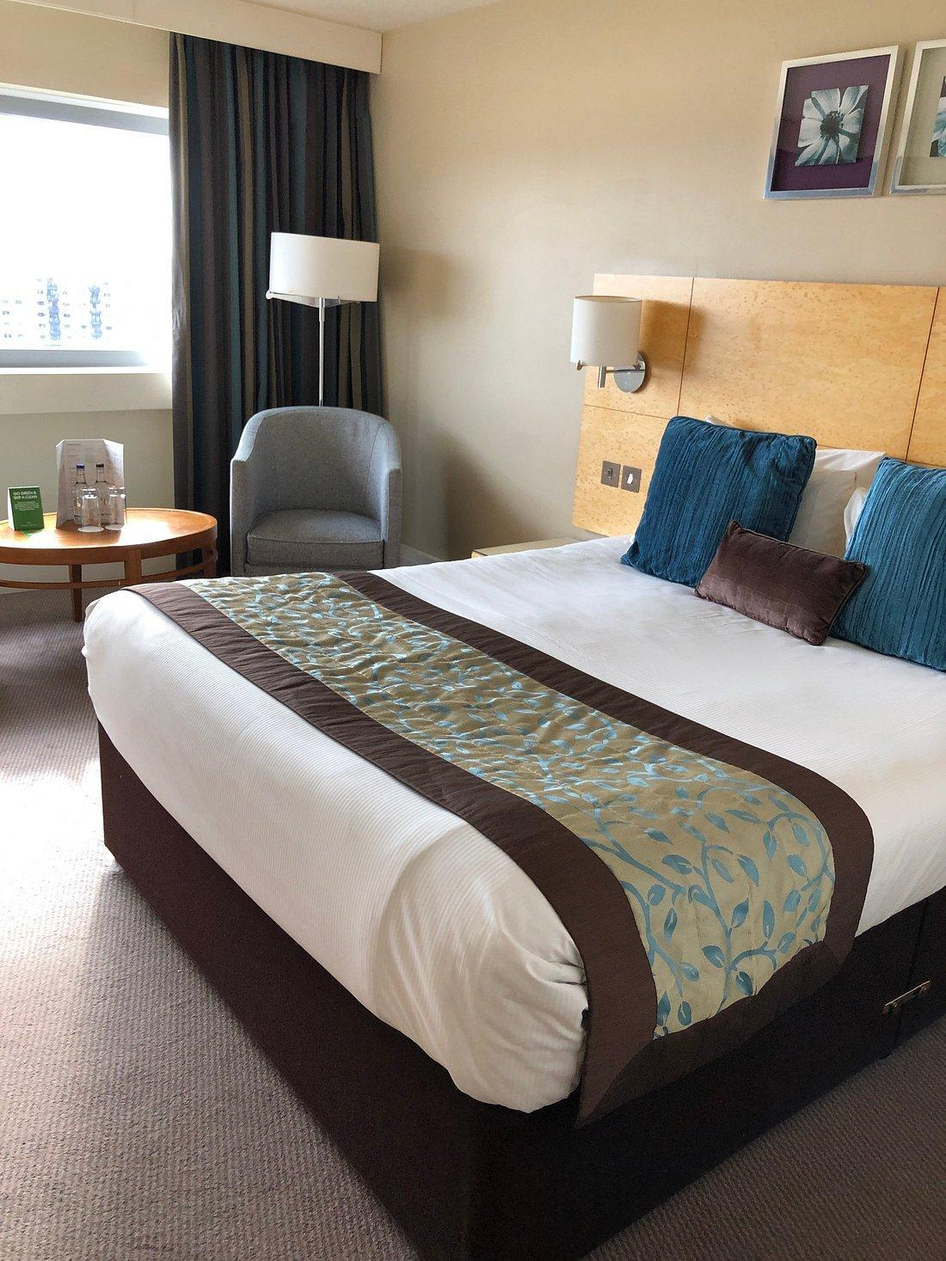chair: (230, 402, 406, 572)
clean_bed: (105, 400, 946, 1096)
organised_pillow: (628, 413, 946, 670)
organized table: (4, 456, 226, 585)
